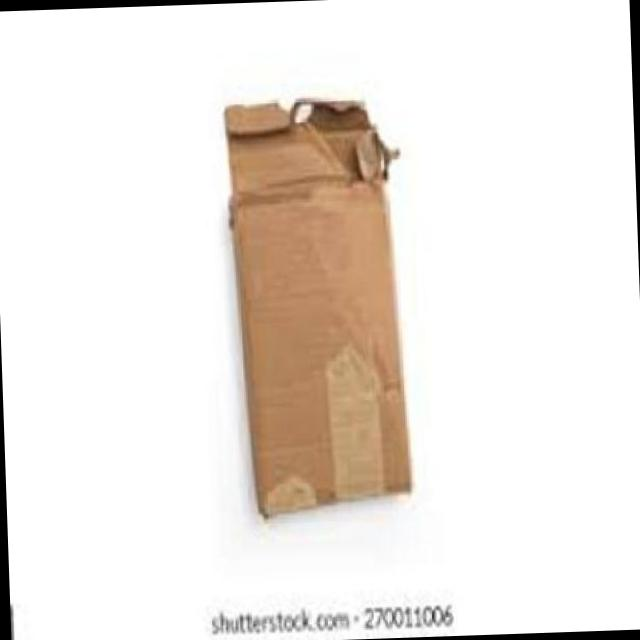box: (58, 64, 586, 591)
